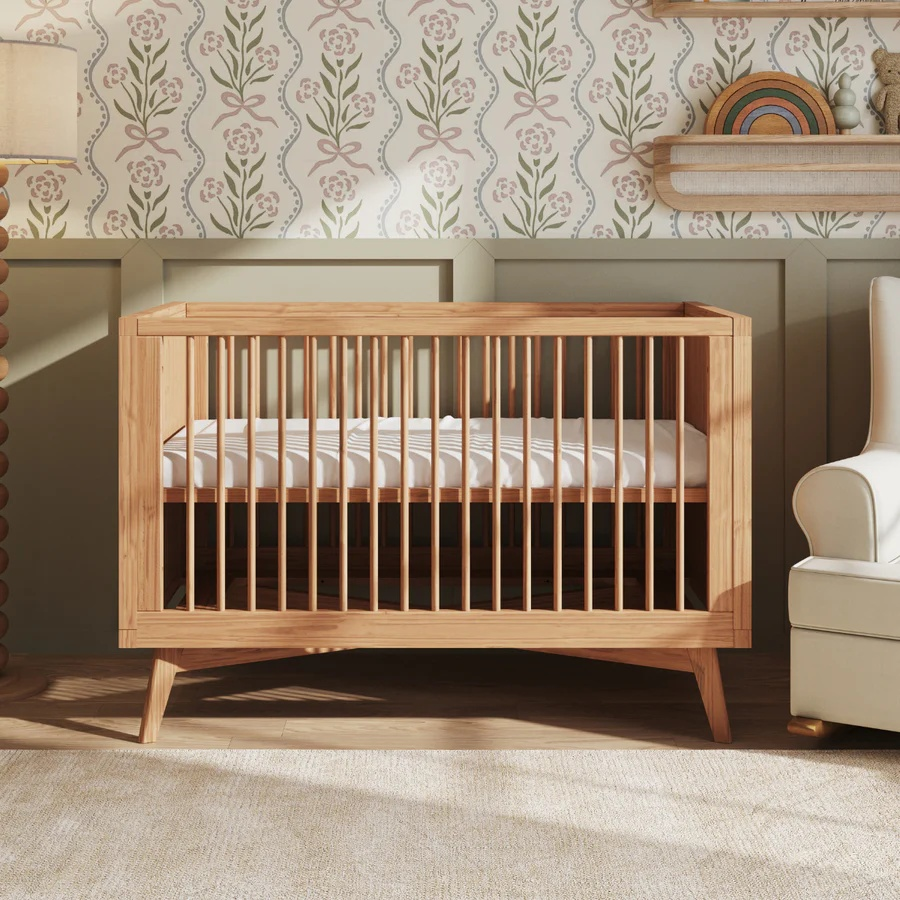crib: (118, 299, 751, 741)
